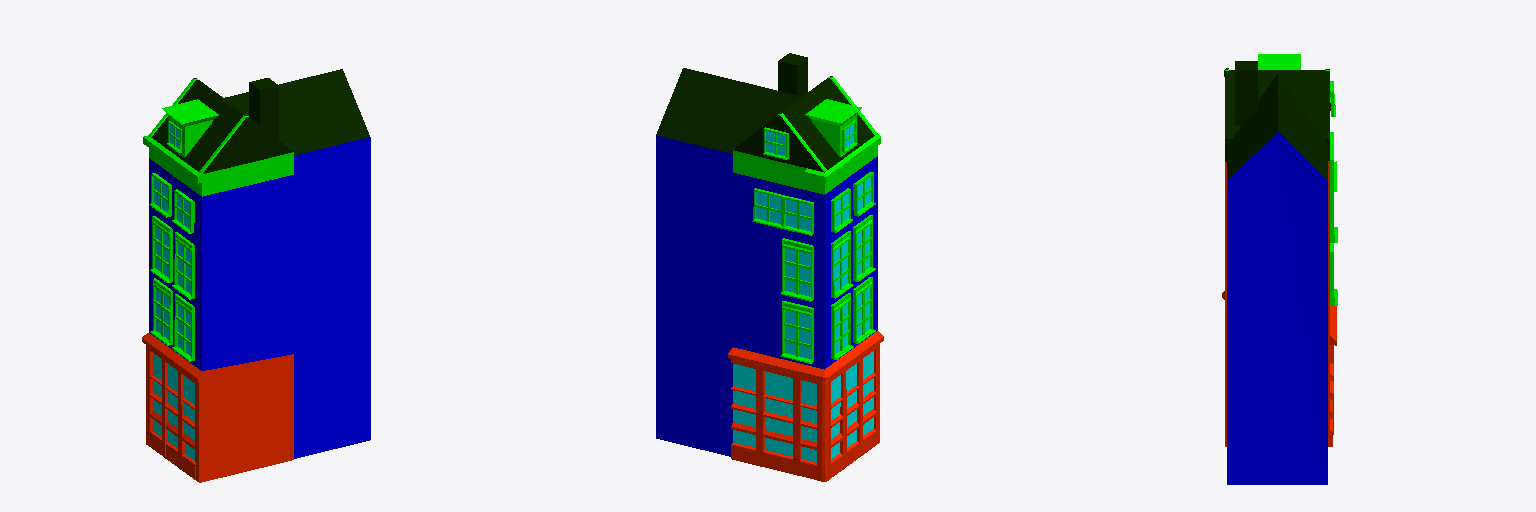
The model's file is Links_1.obj.
The picture shows the model from 3 angles: view 1: azimuth 30°, elevation 25°; view 2: azimuth 150°, elevation 25°; view 3: azimuth 270°, elevation 25°; orthographic projection.
Visible parts, largest first — view 1: polySurface524; view 2: polySurface524; view 3: polySurface524.
Boxes of the visible parts, x1,y1,x2,y2 form: polySurface524: [142, 69, 370, 482]; polySurface524: [656, 53, 883, 481]; polySurface524: [1222, 54, 1337, 484].
Size of the model in its own units: 21.56 by 43.67 by 12.28.